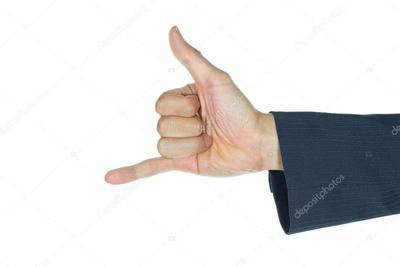closedhandfront: (154, 75, 273, 196)
mindinho: (97, 147, 181, 191)
